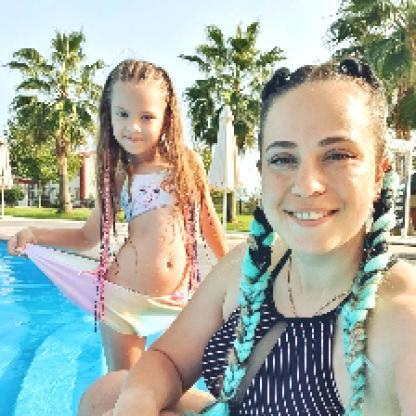child: (6, 60, 229, 372)
